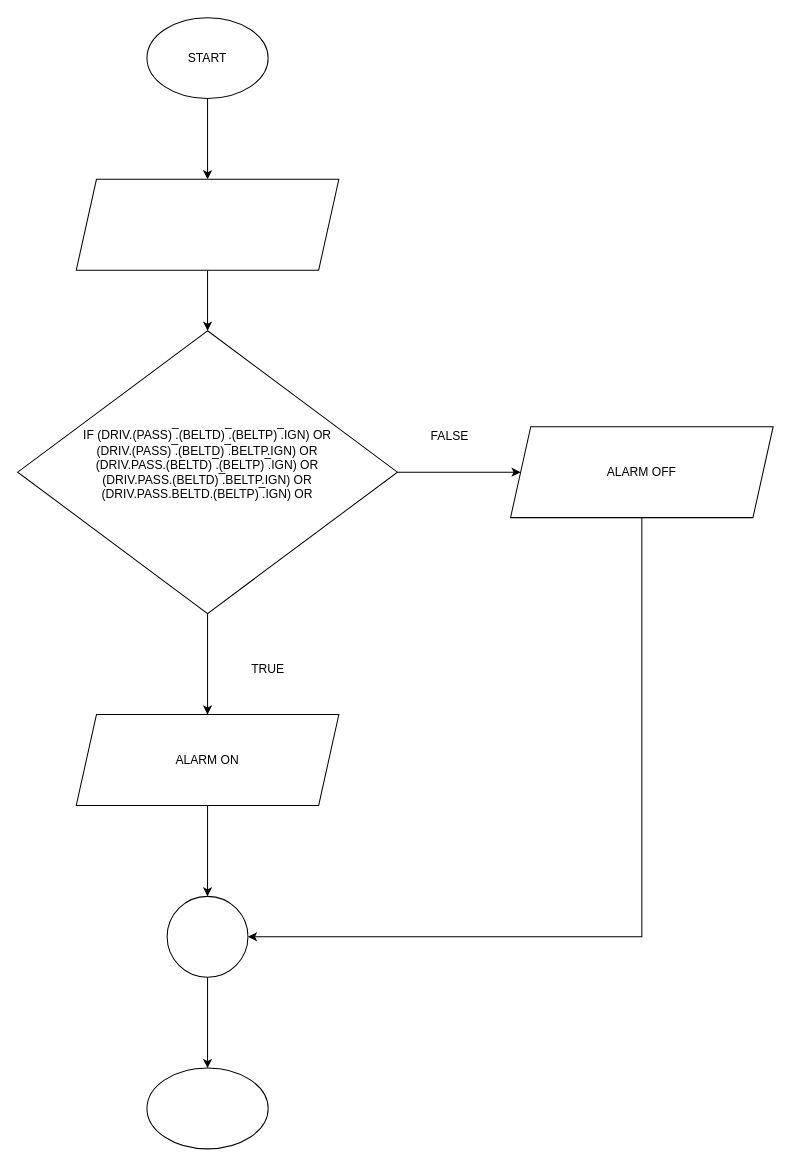
Image size: 791x1167. Some labels were removed from this diagram. Each missing label, with the box of its shape:
DRIV.(PASS) ̅.(BELTD) ̅.(BELTP) ̅.IGN: (75, 178, 339, 270)
STOP: (146, 1067, 268, 1149)
